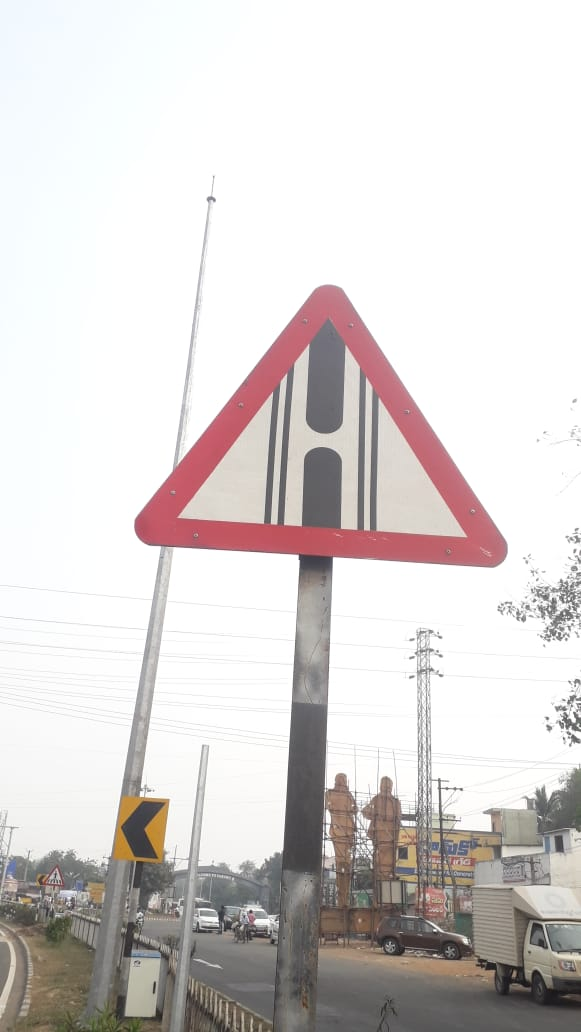highway go straight: (143, 252, 511, 635)
